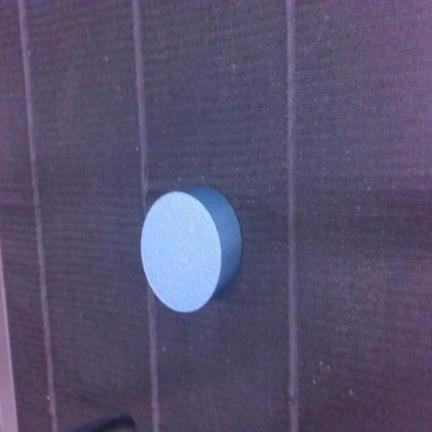cylinder: (141, 186, 241, 312)
